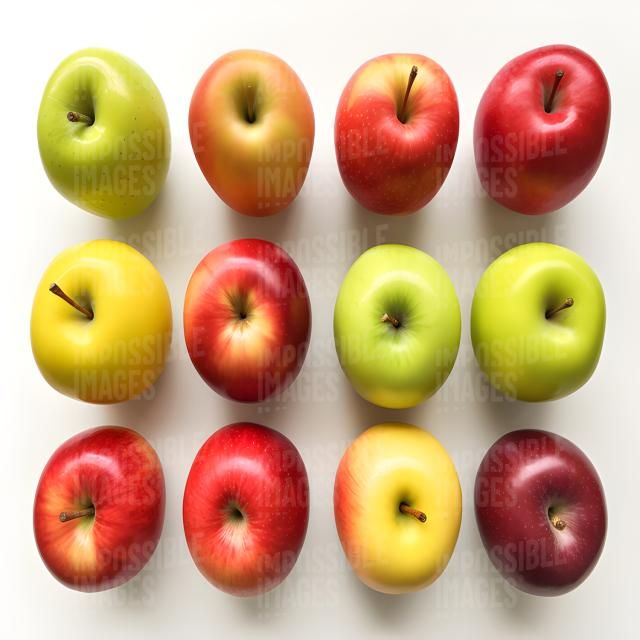Green Apple: (38, 46, 173, 221), (31, 239, 174, 403), (333, 423, 464, 590), (471, 242, 607, 402), (333, 243, 462, 410)
Red Apple: (474, 43, 612, 216), (182, 420, 312, 596), (34, 424, 167, 594), (475, 427, 609, 594), (189, 43, 316, 217), (184, 233, 313, 401), (333, 50, 462, 217)
